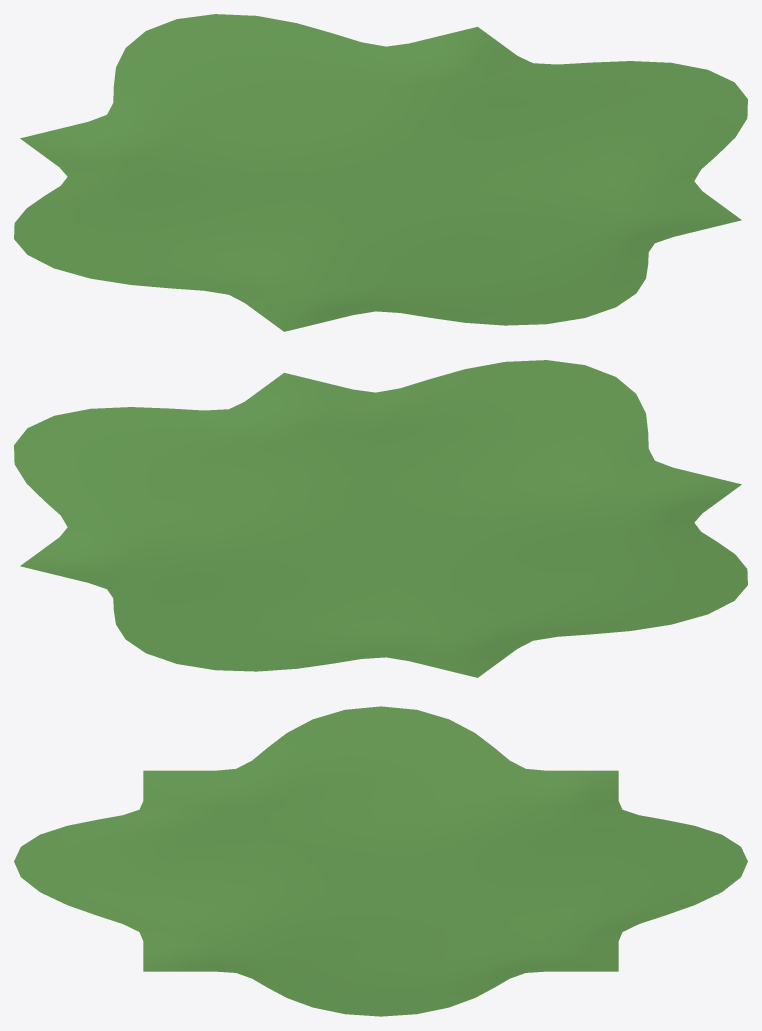
File: ground plane.fbx
3 views of the same model, one above another, from view 1: azimuth 30°, elevation 25°; view 2: azimuth 150°, elevation 25°; view 3: azimuth 270°, elevation 25° (orthographic). The views are drawn at different scales.
Parts seen in each view (by area): view 1: pPlane11; view 2: pPlane11; view 3: pPlane11.
Boxes of the visible parts, <box> form: pPlane11: <box>14,14,747,331</box>; pPlane11: <box>14,360,747,677</box>; pPlane11: <box>14,706,747,1016</box>.
Size of the model in its own units: 732 by 17.01 by 732.
